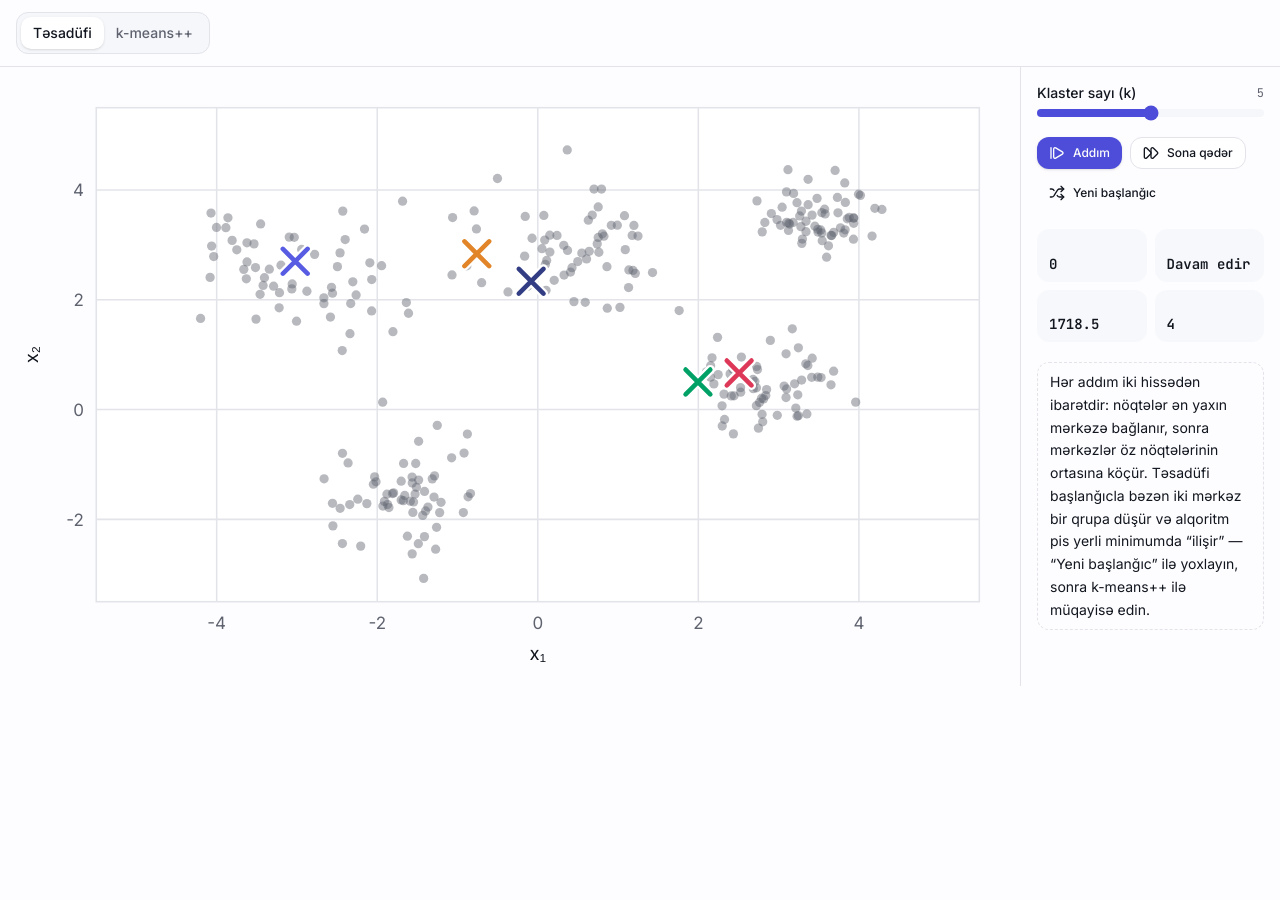
chapter 8 demos (smoke) › k-means steps: running to the end converges
Click the radio button labelled "k-means++": (154, 33) [104,17,205,49]
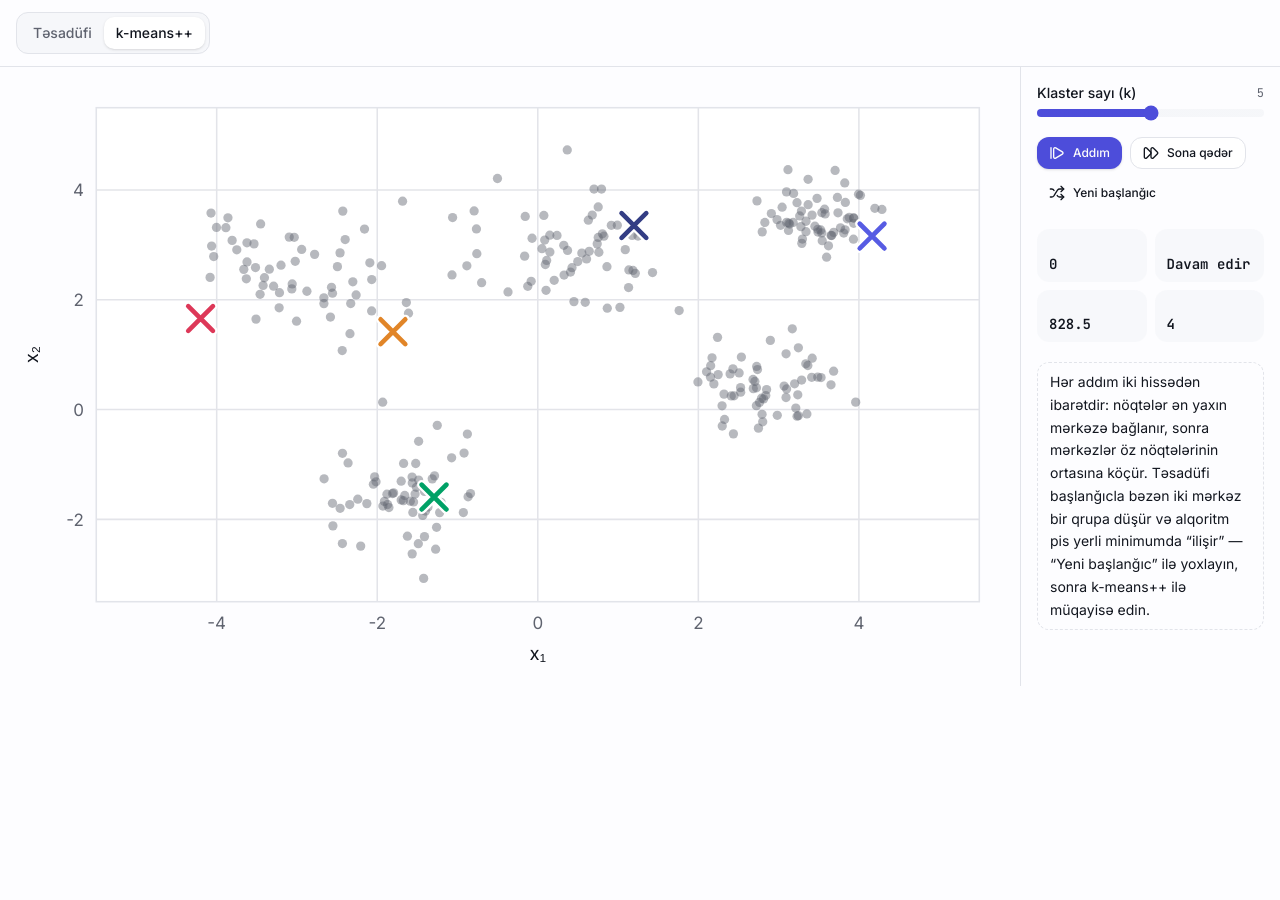
Click the button "Sona qədər": (1188, 153) [1130,137,1246,169]
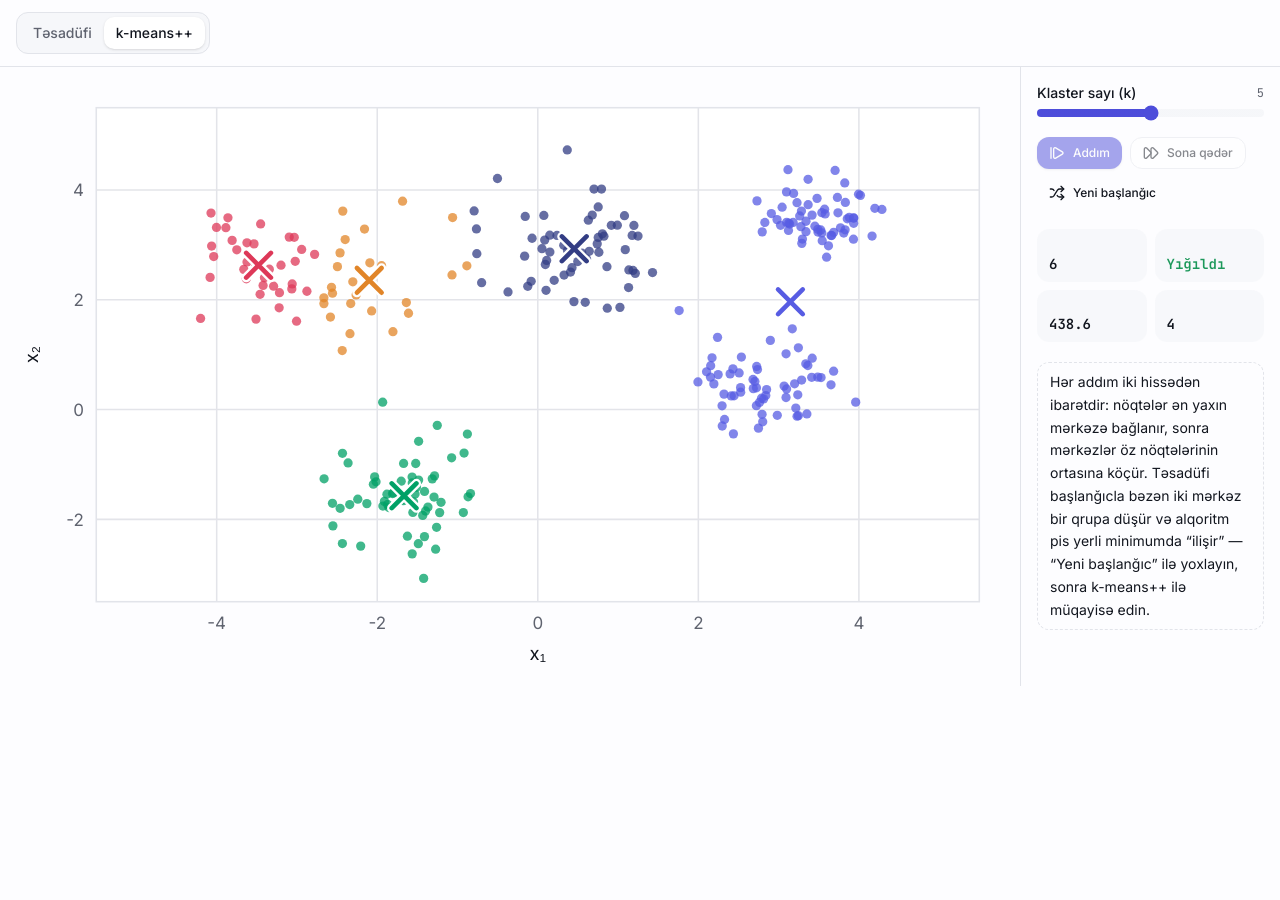
Expected: the text "Yığıldı" is shown, [1166,254,1225,272]
